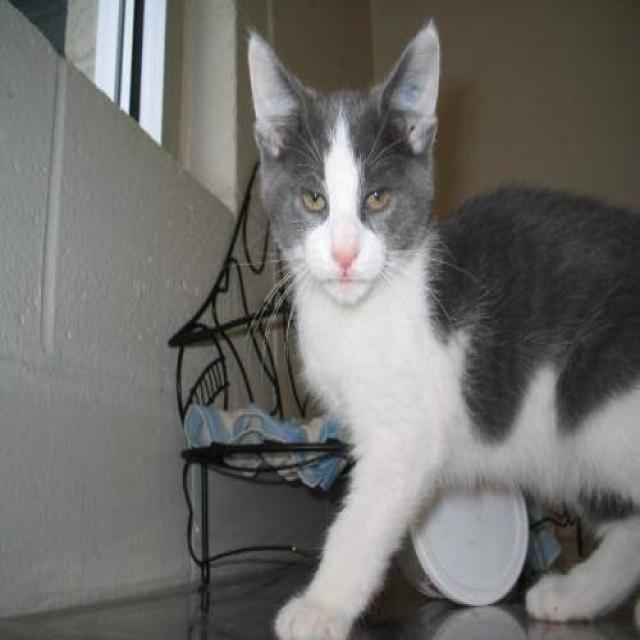cat: (243, 17, 639, 638)
